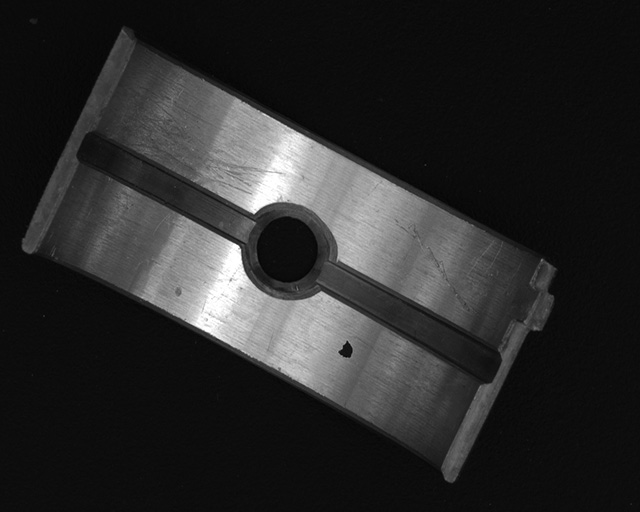blot: (337, 340, 353, 359)
bruise: (174, 286, 182, 297)
gap: (320, 261, 501, 384), (79, 133, 254, 244)
hole: (247, 205, 330, 295)
nick: (393, 218, 472, 313)
scratch: (107, 86, 278, 198)
